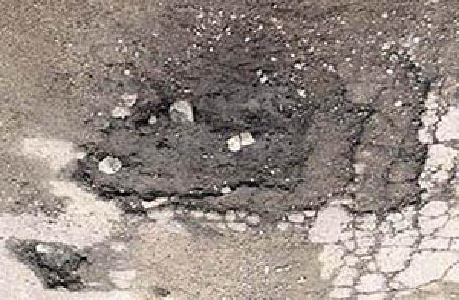pothole: (70, 24, 366, 223), (11, 238, 93, 293)
